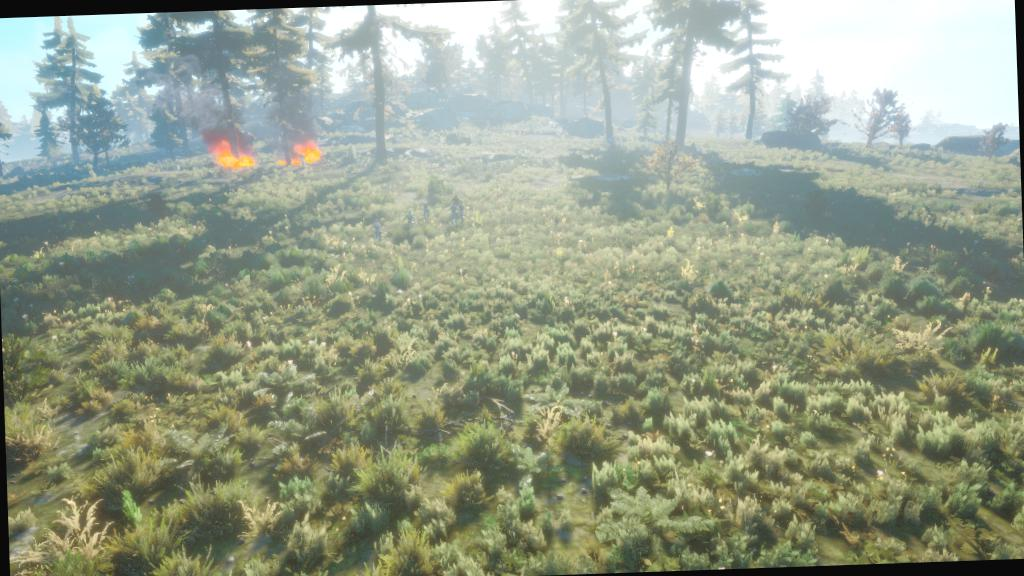Fire: (199, 126, 263, 179), (278, 134, 326, 171)
human: (432, 187, 478, 229), (356, 212, 392, 252), (398, 202, 433, 234)
smoke: (276, 84, 321, 125), (197, 92, 239, 126)
